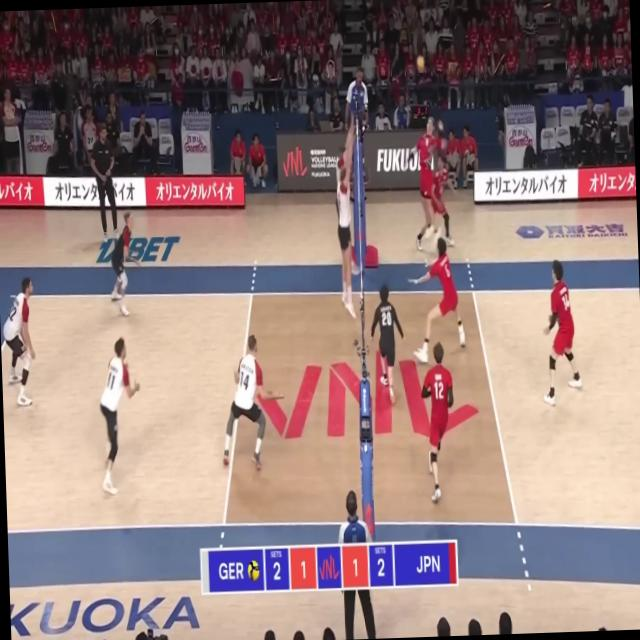referee: (335, 488, 377, 640)
team_one: (218, 333, 286, 470), (96, 336, 143, 494), (0, 276, 41, 410), (108, 212, 142, 318), (334, 111, 359, 252), (336, 166, 358, 320)
team_two: (407, 236, 467, 364), (419, 342, 458, 504), (540, 257, 582, 405), (404, 114, 444, 251), (368, 283, 404, 406), (426, 154, 454, 252)
